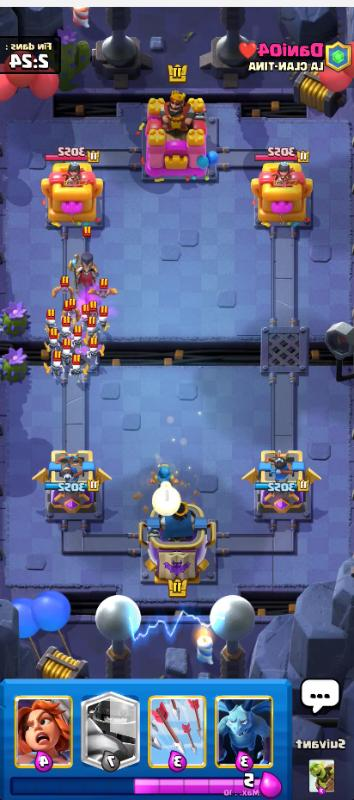bat: (50, 279, 76, 298), (89, 281, 112, 301), (62, 303, 78, 322)
squelette: (43, 357, 65, 379), (66, 363, 88, 382), (59, 337, 75, 363), (84, 320, 97, 345), (98, 309, 110, 334), (59, 319, 72, 338), (73, 327, 82, 353), (47, 333, 58, 352), (45, 314, 56, 332), (88, 345, 99, 361)
